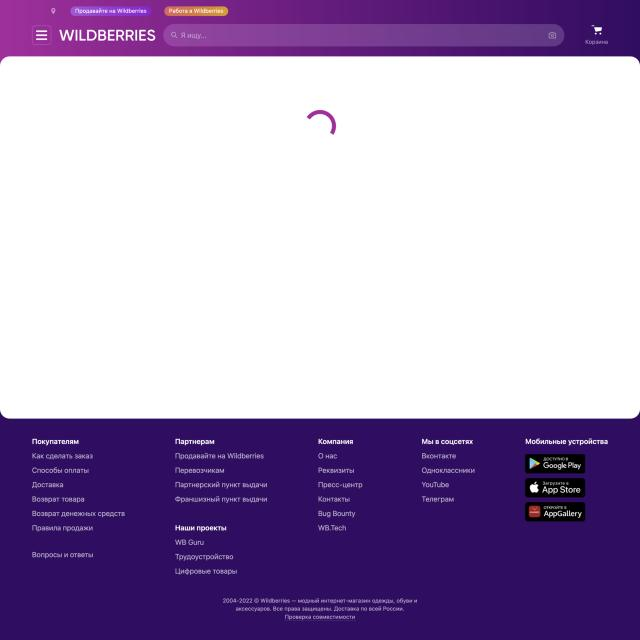footer: (0, 417, 640, 640)
input: (162, 23, 566, 48)
logo: (56, 27, 158, 47)
navigation: (28, 23, 54, 48)
